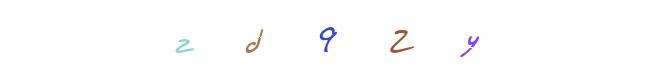2: (304, 0, 384, 80)
9: (292, 0, 372, 80)
D: (287, 0, 367, 80)
Y: (400, 0, 480, 80)
Z: (227, 0, 307, 80)
